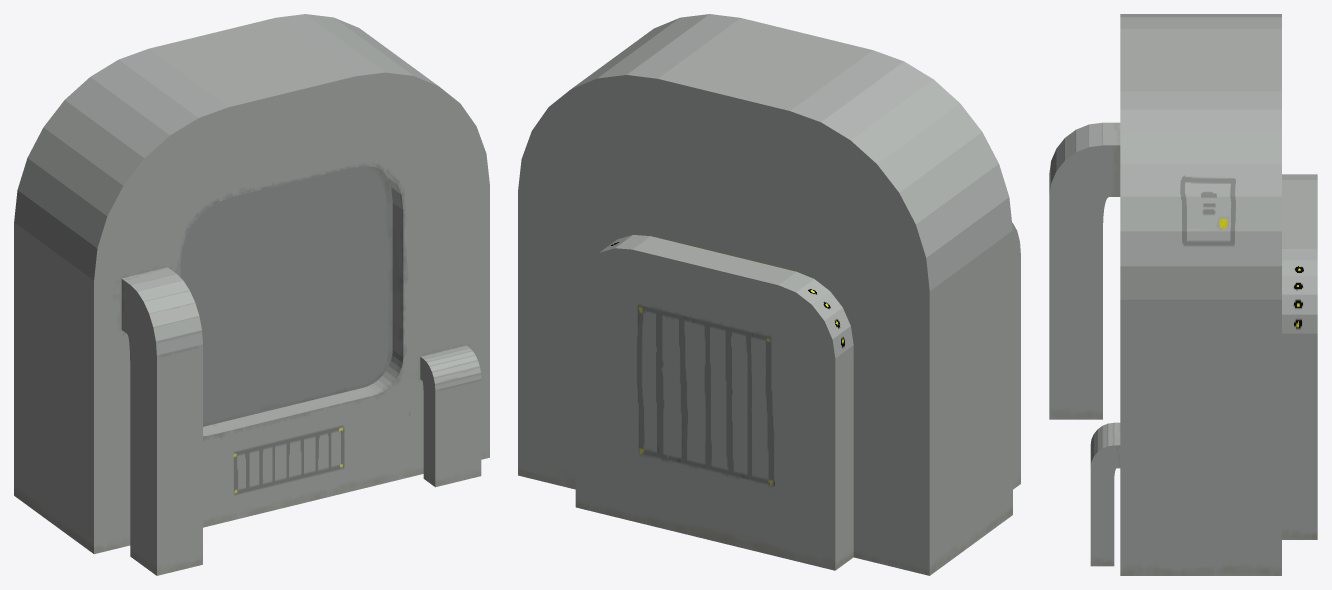
The model's file is Planter.fbx.
3 renders of one model, left to right at view 1: azimuth 30°, elevation 25°; view 2: azimuth 150°, elevation 25°; view 3: azimuth 270°, elevation 25°, orthographic. The views are drawn at different scales.
Visible parts, largest first — view 1: Planter; view 2: Planter; view 3: Planter.
Boxes of the visible parts, bbox=[...] form: Planter: bbox=[14, 14, 489, 575]; Planter: bbox=[518, 14, 1020, 575]; Planter: bbox=[1049, 14, 1317, 575].
Bounding box in the file's own units: 250 × 252 × 145.
Materials: 1 (1 with a texture image).
